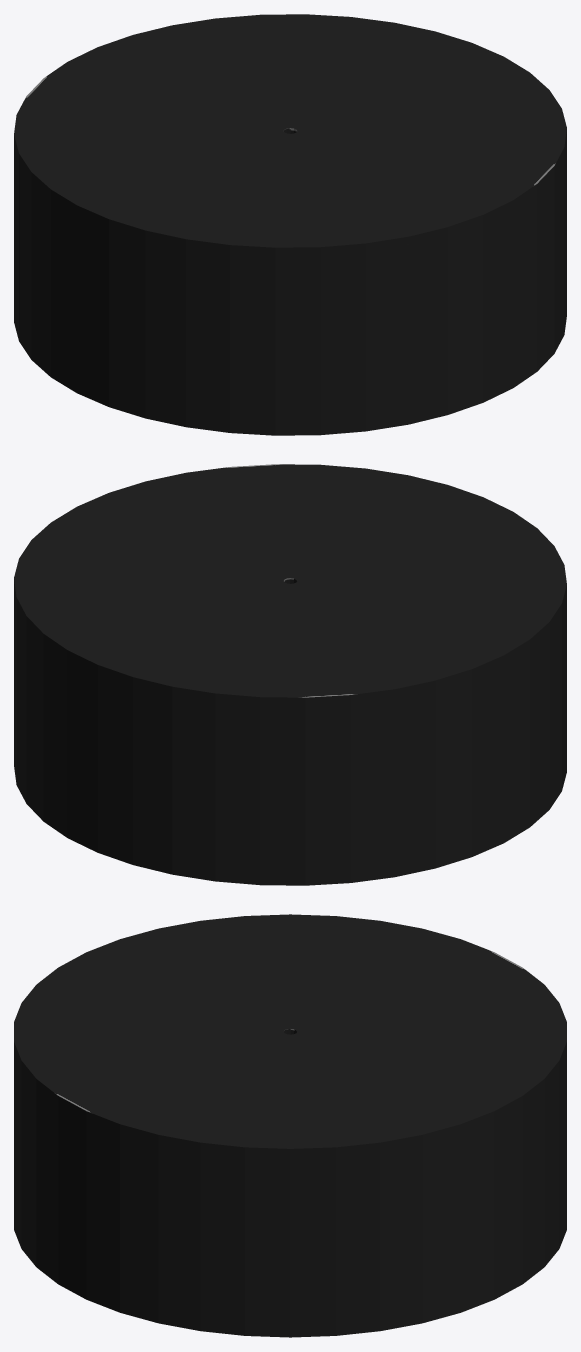
Rendered from right_front_wheel.dae.
The picture shows the model from 3 angles, top to bottom: view 1: azimuth 30°, elevation 25°; view 2: azimuth 150°, elevation 25°; view 3: azimuth 270°, elevation 25°; orthographic projection.
Parts seen in each view (by area): view 1: right_front_wheel; view 2: right_front_wheel; view 3: right_front_wheel.
Part boxes in pixels (x1=…): right_front_wheel: x1=14, y1=14, x2=566, y2=435; right_front_wheel: x1=14, y1=464, x2=566, y2=885; right_front_wheel: x1=14, y1=914, x2=566, y2=1337.
Bounding box in the file's own units: 0.2032 × 0.2025 × 0.0762.
Materials: 1 (1 with a texture image).
